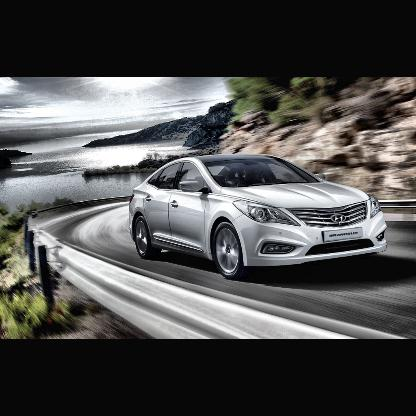Hyundai Azera Sedan 2012: (126, 154, 394, 282)
